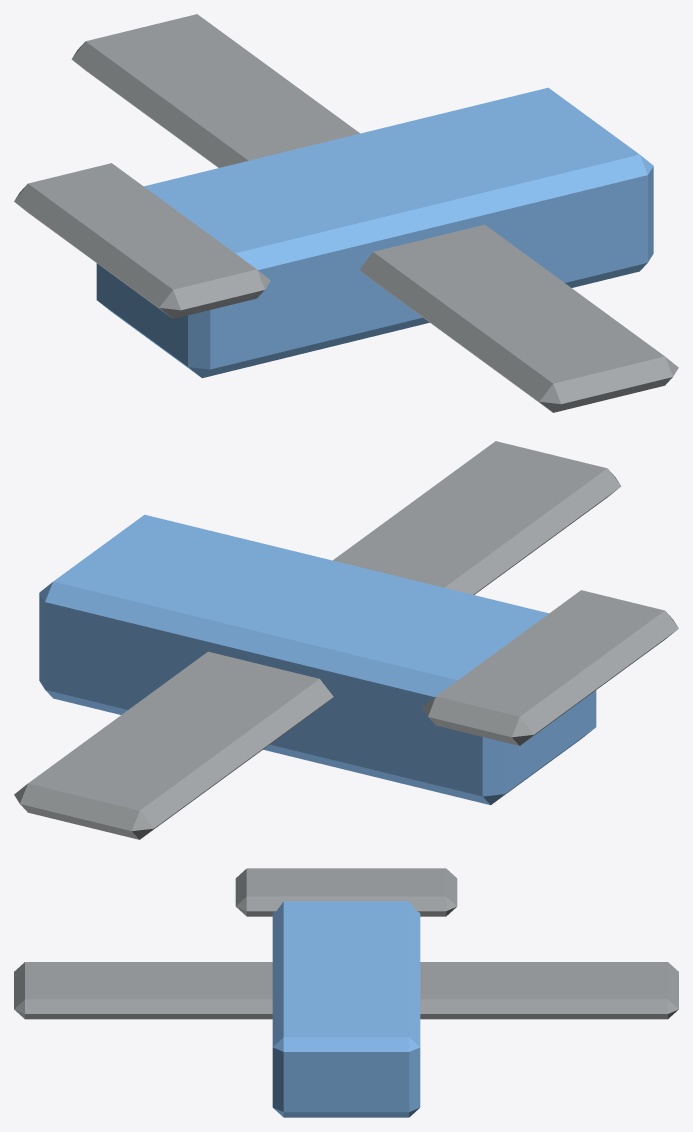
The model's file is drone.glb.
The picture shows the model from 3 angles, top to bottom: view 1: azimuth 30°, elevation 25°; view 2: azimuth 150°, elevation 25°; view 3: azimuth 270°, elevation 25°; orthographic projection. The views are drawn at different scales.
Visible parts, largest first — view 1: drone; view 2: drone; view 3: drone.
Boxes of the visible parts, left/top/right/bottom form: drone: left=14, top=14, right=678, bottom=412; drone: left=14, top=441, right=678, bottom=839; drone: left=14, top=868, right=678, bottom=1117.
Bounding box in the file's own units: 0.56 × 0.125 × 0.9.
